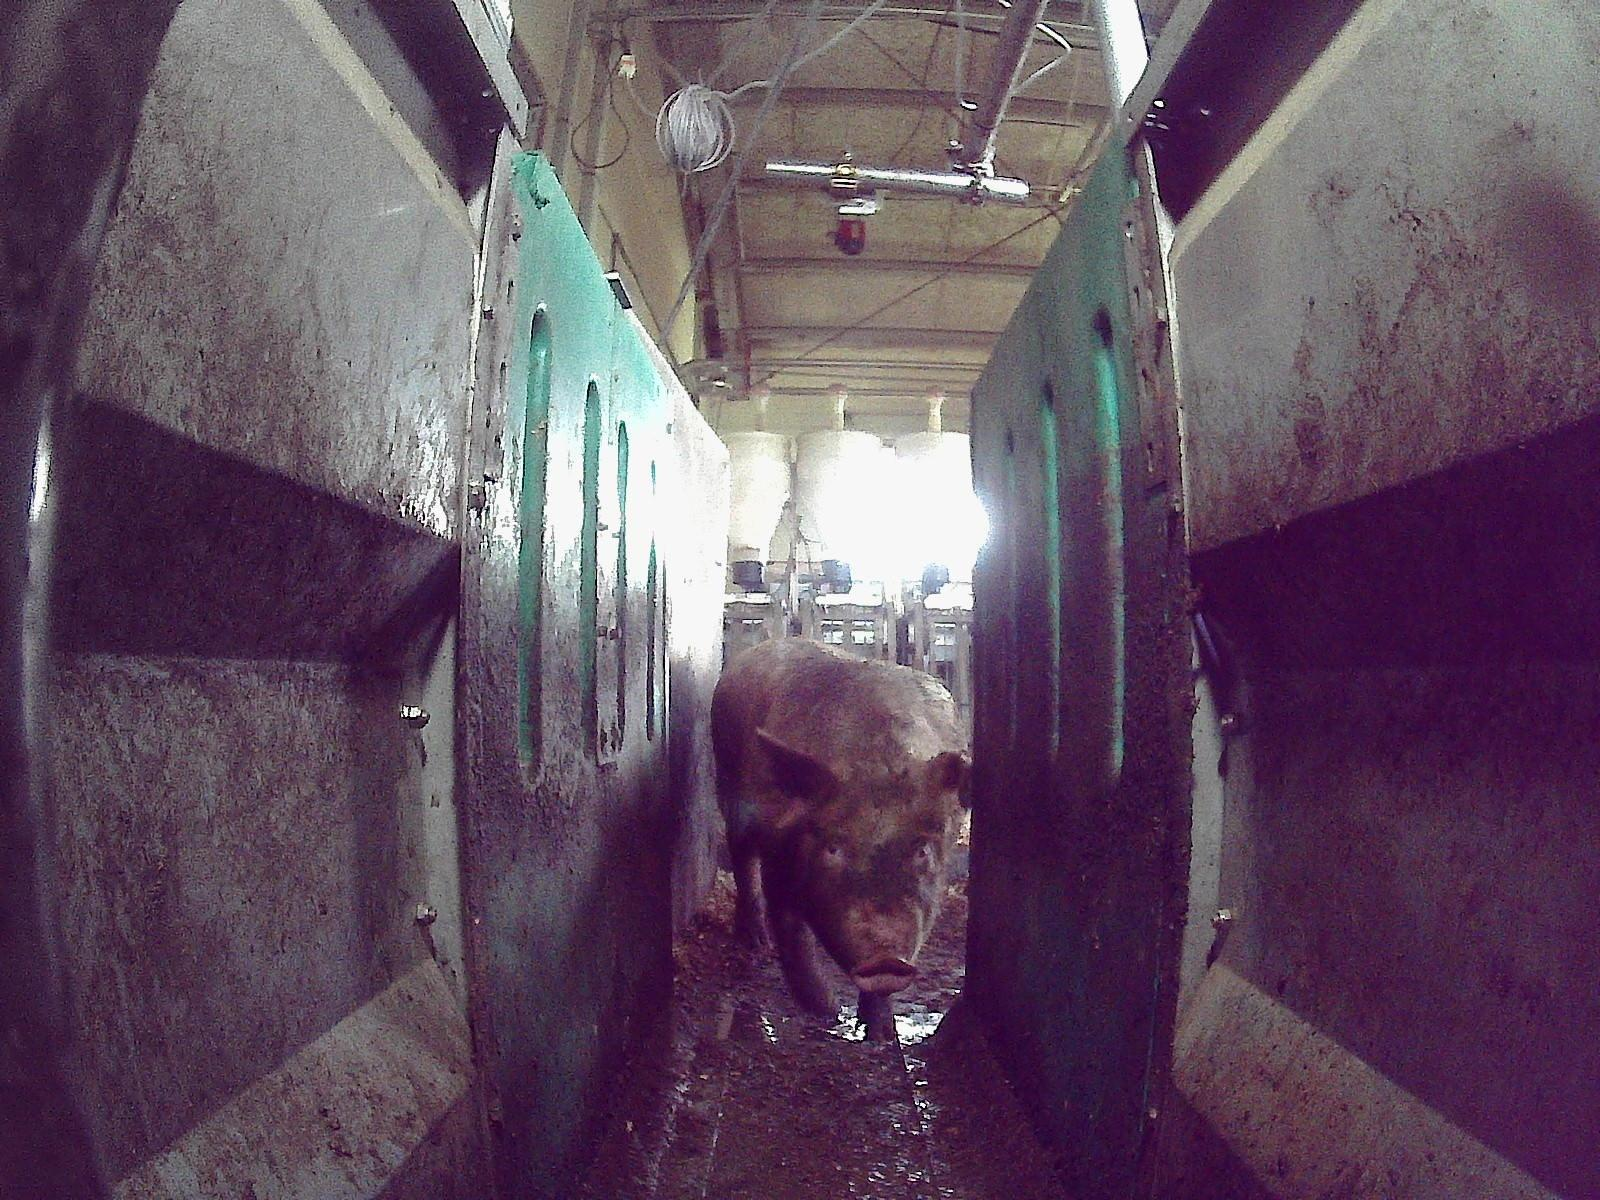Face: (794, 769, 946, 993)
